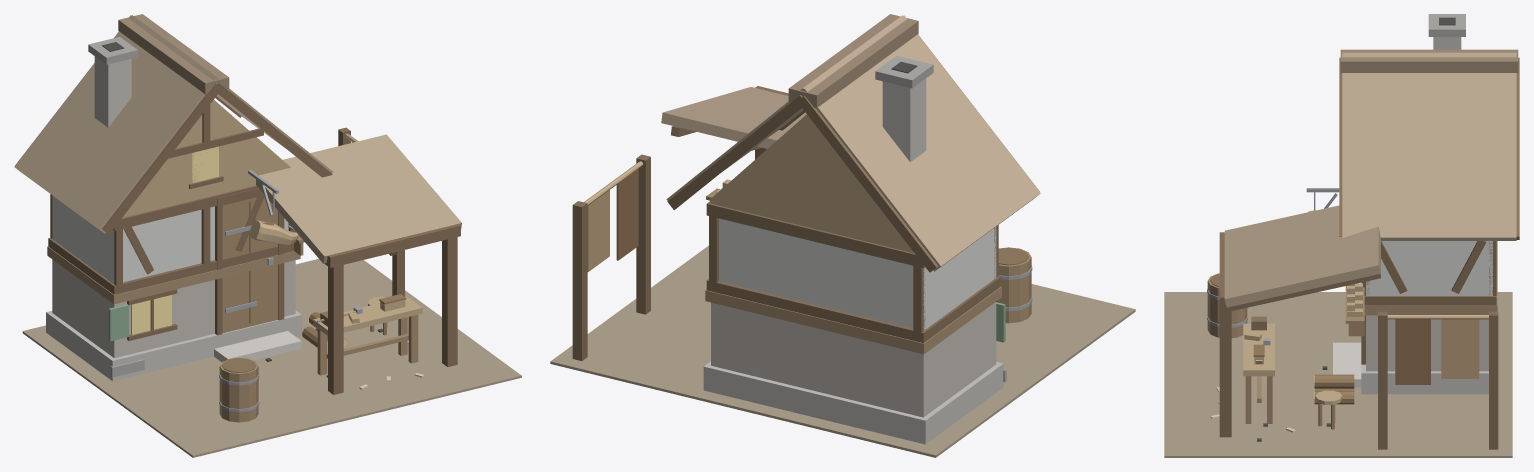
Rendered from cobbler.glb.
The picture shows the model from 3 angles, left to right: view 1: azimuth 30°, elevation 25°; view 2: azimuth 150°, elevation 25°; view 3: azimuth 270°, elevation 25°; orthographic projection. The views are drawn at different scales.
Parts seen in each view (by area): view 1: Ground, Roof, Lean.Roof, Walls, Upper, Gable, Plinth, Door, Roof.Ridge, Band, Timber.Sill, Lean.Post (+21 smaller); view 2: Ground, Roof, Walls, Upper, Gable.001, Plinth, Lean.Roof, Roof.Ridge, Timber.Sill, Band, Chimney, Timber.Plate (+11 smaller); view 3: Ground, Roof.001, Lean.Roof, Upper, Roof.Ridge, Hide, Hide.001, Walls, Plinth, Lean.Post.001, Band, Hide.Post (+16 smaller).
Boxes of the visible parts, bbox=[...] form: Ground: bbox=[22, 259, 521, 457]; Roof: bbox=[14, 15, 219, 233]; Lean.Roof: bbox=[256, 134, 461, 263]; Walls: bbox=[52, 259, 295, 358]; Upper: bbox=[52, 195, 288, 283]; Gable: bbox=[122, 100, 290, 217]; Plinth: bbox=[46, 310, 301, 381]; Door: bbox=[222, 197, 278, 332]; Roof.Ridge: bbox=[118, 14, 229, 94]; Band: bbox=[47, 246, 300, 304]; Timber.Sill: bbox=[48, 237, 293, 294]; Lean.Post: bbox=[328, 253, 343, 394]; Ground: bbox=[550, 245, 1135, 457]; Roof: bbox=[800, 15, 1040, 271]; Walls: bbox=[711, 302, 996, 417]; Upper: bbox=[719, 218, 996, 330]; Gable.001: bbox=[710, 114, 913, 252]; Plinth: bbox=[703, 361, 1003, 444]; Lean.Roof: bbox=[661, 87, 806, 148]; Roof.Ridge: bbox=[788, 14, 918, 108]; Timber.Sill: bbox=[706, 276, 1000, 342]; Band: bbox=[705, 286, 1001, 354]; Chimney: bbox=[882, 78, 926, 162]; Timber.Plate: bbox=[706, 201, 924, 268]; Ground: bbox=[1164, 292, 1512, 457]; Roof.001: bbox=[1342, 52, 1516, 240]; Lean.Roof: bbox=[1224, 205, 1380, 307]; Upper: bbox=[1366, 241, 1492, 295]; Roof.Ridge: bbox=[1340, 49, 1518, 73]; Hide: bbox=[1395, 319, 1430, 384]; Hide.001: bbox=[1441, 319, 1479, 378]; Walls: bbox=[1366, 315, 1488, 371]; Plinth: bbox=[1361, 364, 1488, 394]; Lean.Post.001: bbox=[1219, 291, 1231, 437]; Band: bbox=[1364, 241, 1497, 315]; Hide.Post: bbox=[1378, 311, 1387, 449].
Size of the model in its own units: 5 by 4.21 by 4.49.
